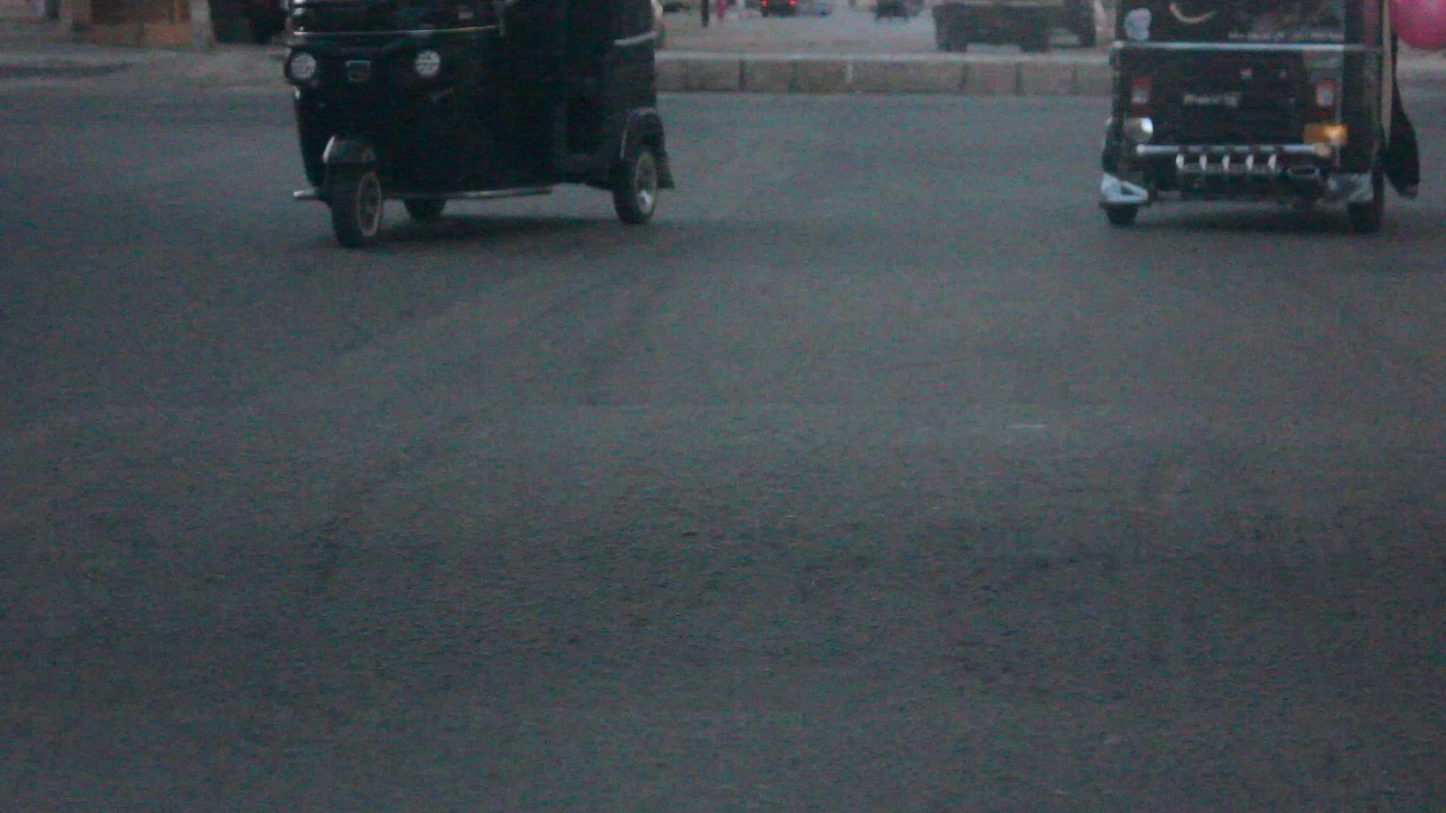Bump: (0, 414, 1446, 713)
